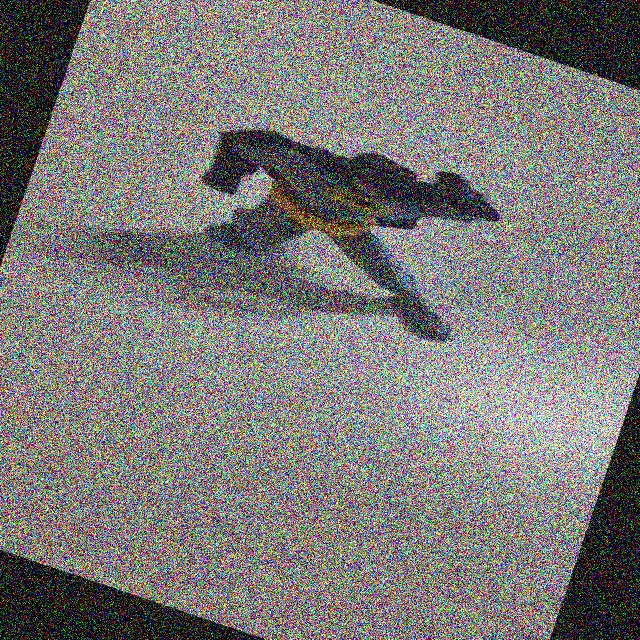Batman: (159, 86, 527, 356)
